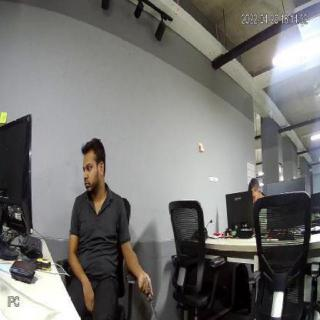knife: (143, 286, 161, 320)
